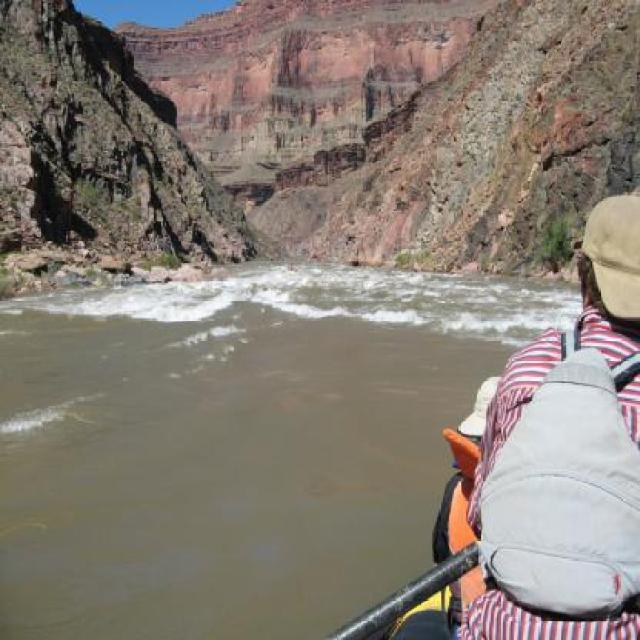Person: (454, 197, 638, 638), (432, 377, 499, 618)
